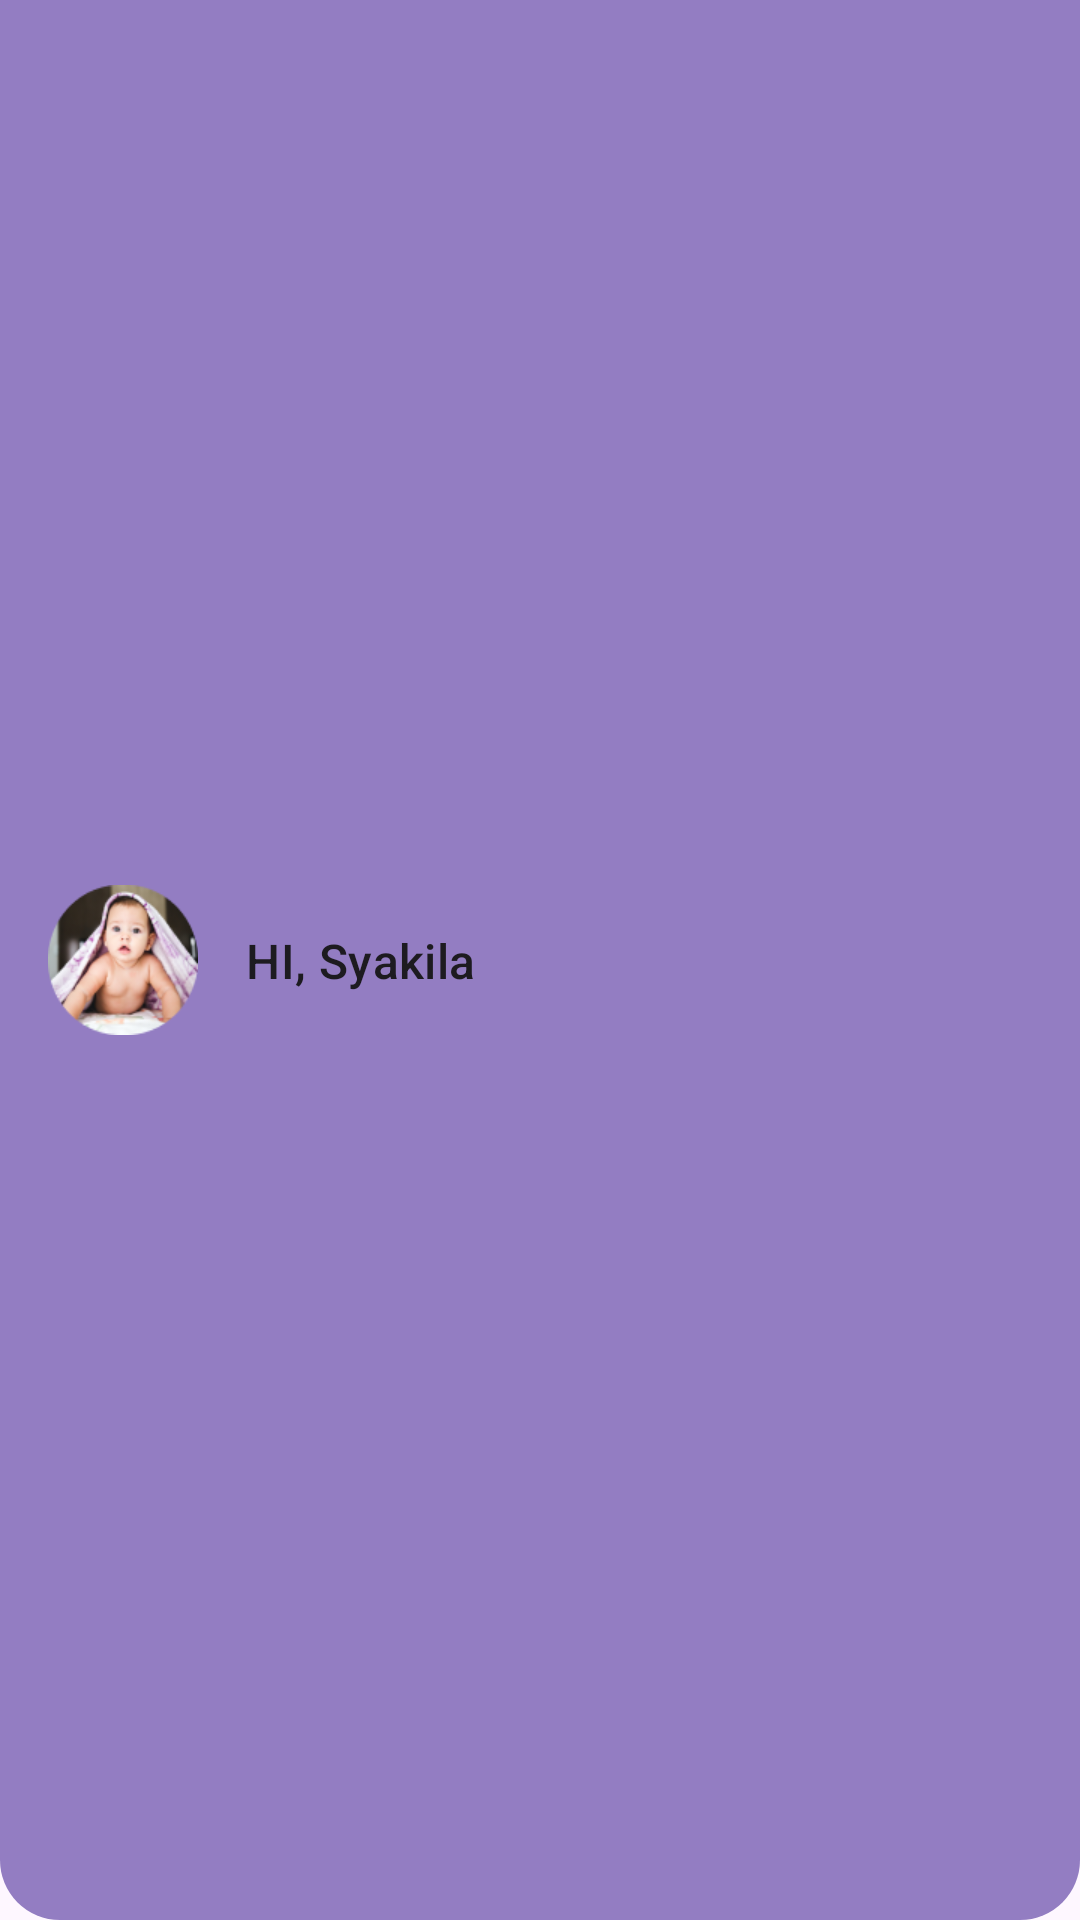

Named icons in this screenshot (1080px×1920px) and their bounding boxes, (x1, y1, x2, y2):
profil: (48, 885, 198, 1035)
